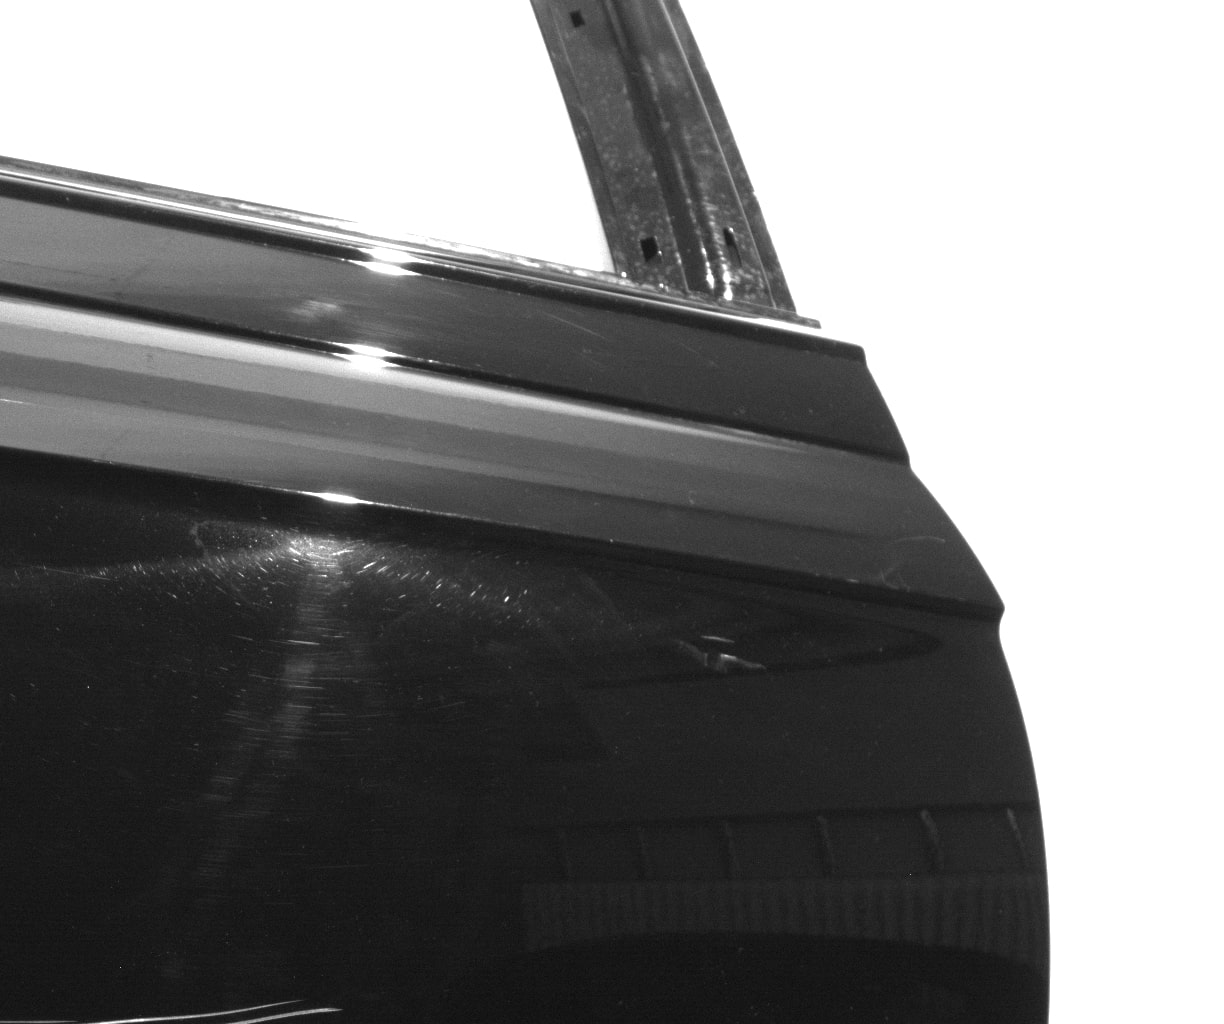scratch: (4, 997, 343, 1024), (890, 536, 945, 543), (701, 634, 736, 644), (721, 653, 741, 662)
